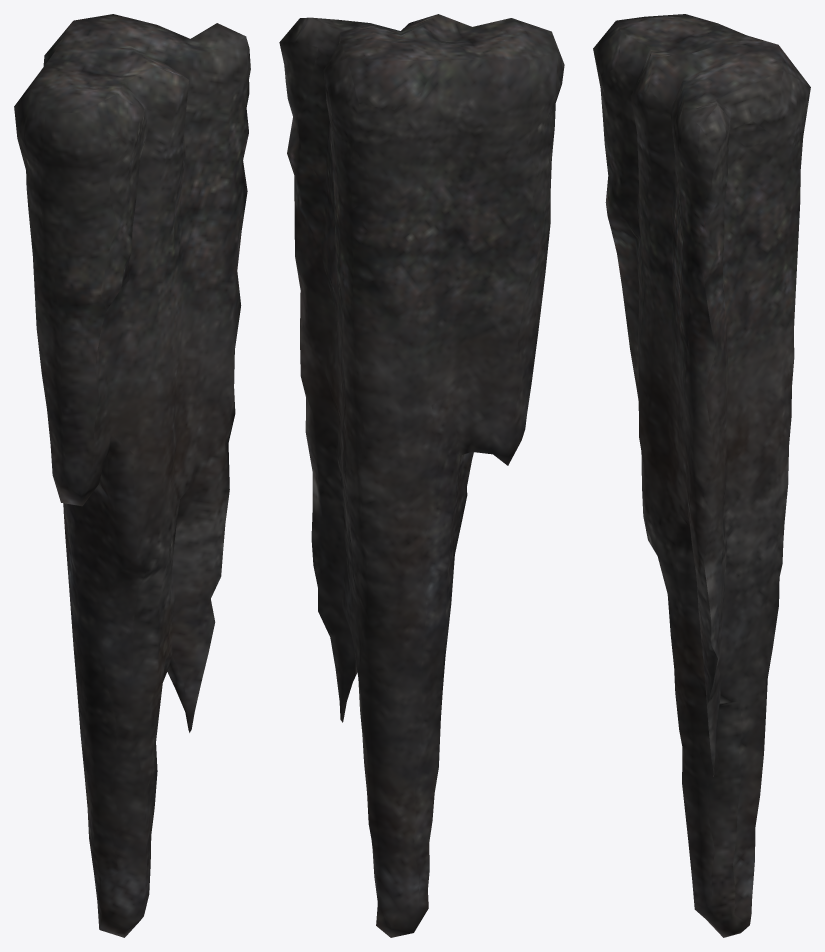
The model's file is CaveRockPack1_High2.fbx.
3 views of the same model, side by side, from view 1: azimuth 30°, elevation 25°; view 2: azimuth 150°, elevation 25°; view 3: azimuth 270°, elevation 25° (orthographic). The views are drawn at different scales.
Visible parts, largest first — view 1: CaveRockPack1_High1; view 2: CaveRockPack1_High1; view 3: CaveRockPack1_High1.
Part boxes in pixels (box(x1,y1,x2,y2)): CaveRockPack1_High1: box(14, 14, 250, 937); CaveRockPack1_High1: box(279, 14, 564, 937); CaveRockPack1_High1: box(593, 14, 810, 937).
Size of the model in its own units: 1036 by 3570 by 799.
